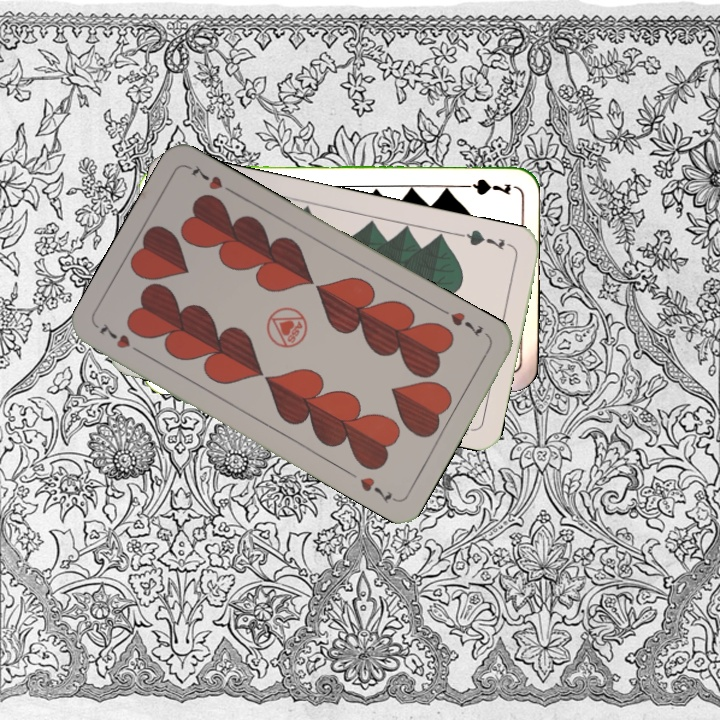G7: (456, 225, 515, 253), (454, 174, 513, 198)
H7: (93, 319, 147, 358), (436, 304, 486, 340)
